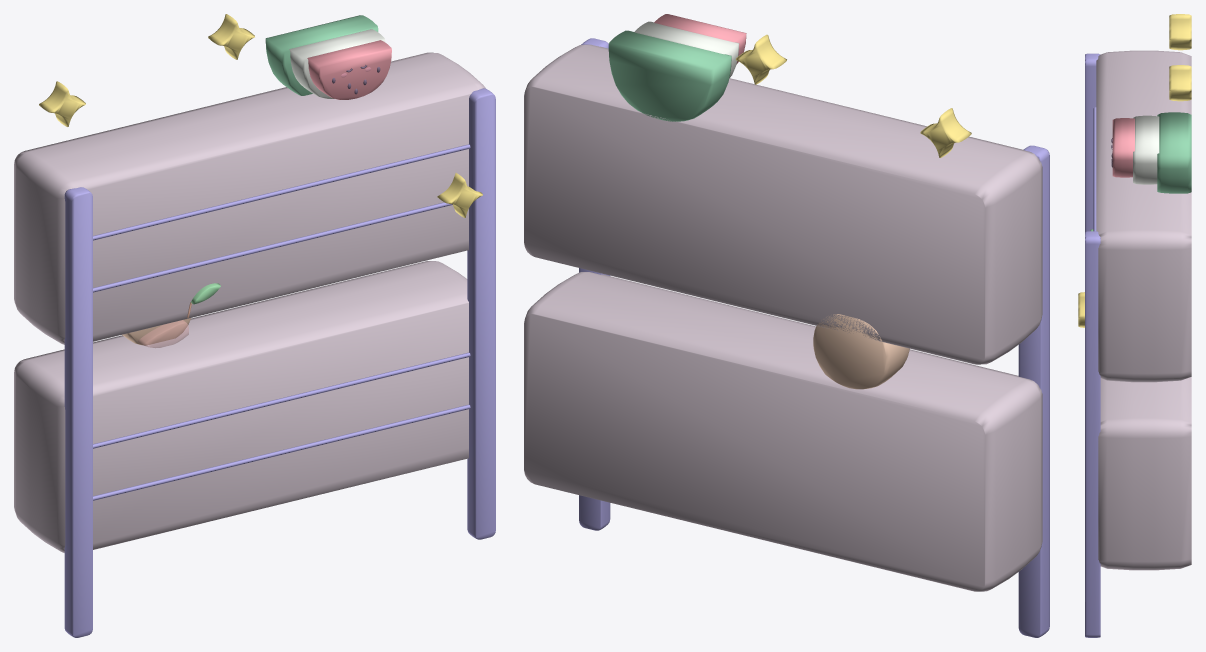
The model's file is decor_1_star.glb.
3 renders of one model, left to right at view 1: azimuth 30°, elevation 25°; view 2: azimuth 150°, elevation 25°; view 3: azimuth 270°, elevation 25°, orthographic. The views are drawn at different scales.
Parts seen in each view (by area): view 1: decor_1_star; view 2: decor_1_star; view 3: decor_1_star.
Part boxes in pixels (left/top/right/bottom): decor_1_star: left=14, top=14, right=495, bottom=637; decor_1_star: left=524, top=14, right=1049, bottom=637; decor_1_star: left=1078, top=14, right=1191, bottom=637.
Size of the model in its own units: 17.42 by 20.47 by 4.37.
